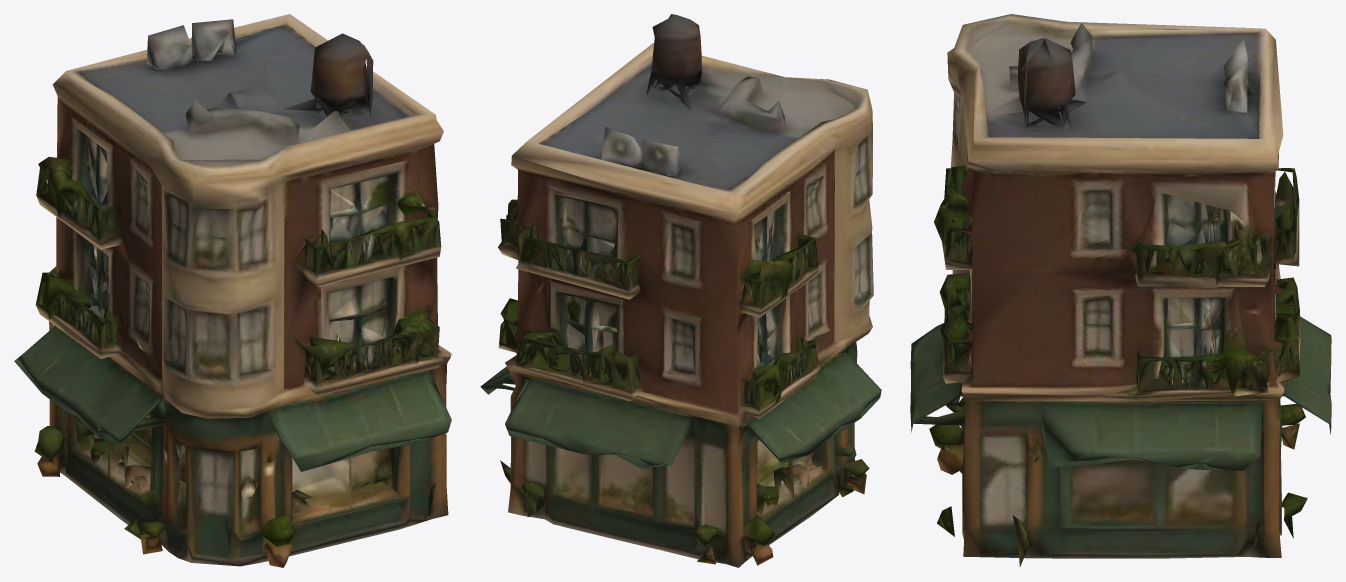
The model's file is city-corner.glb.
3 views of the same model, side by side, from view 1: azimuth 30°, elevation 25°; view 2: azimuth 150°, elevation 25°; view 3: azimuth 270°, elevation 25° (orthographic). The views are drawn at different scales.
Visible parts, largest first — view 1: city-corner; view 2: city-corner; view 3: city-corner.
Boxes of the visible parts, x1,y1,x2,y2 form: city-corner: (14,14,451,567); city-corner: (480,14,881,567); city-corner: (910,14,1331,566).
Bounding box in the file's own units: 9.44 × 13 × 10.08.
Materials: 1 (1 with a texture image).
